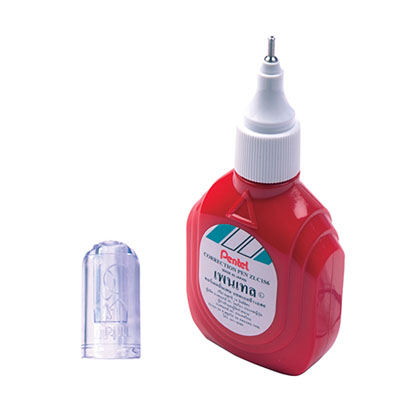Correction_fluid: (182, 32, 346, 382)
